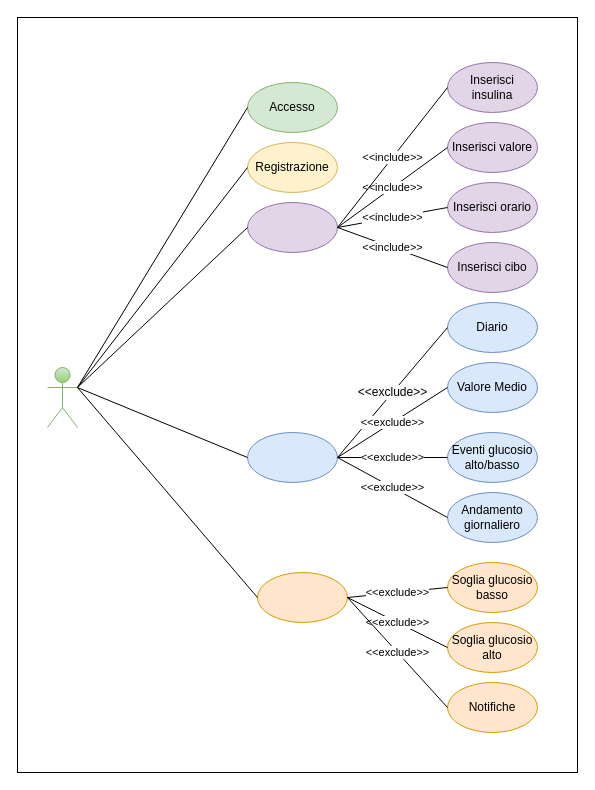
Image size: 595x790. Some labels were removed from this diagram. The centre of each missing label's shape, as x and y in pixels:
Aggiungi: (292,227)
Impostazioni: (302,597)
Menu: (292,457)
Utente: (62,397)
